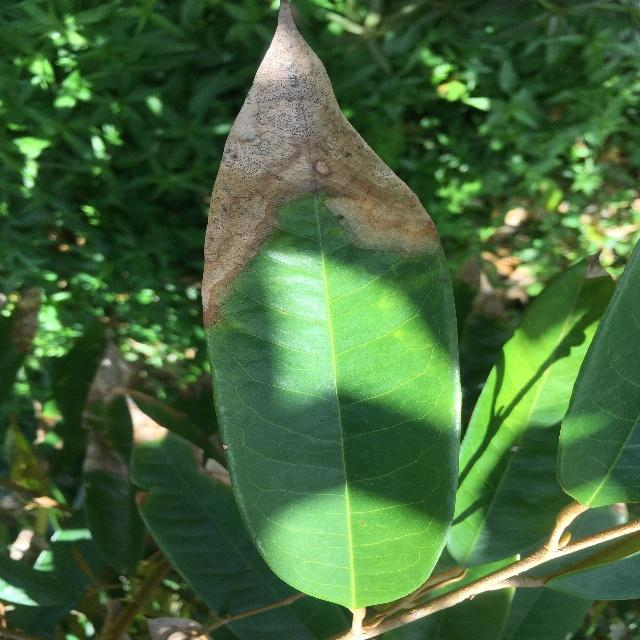Leaf Blight: (191, 0, 469, 623)
